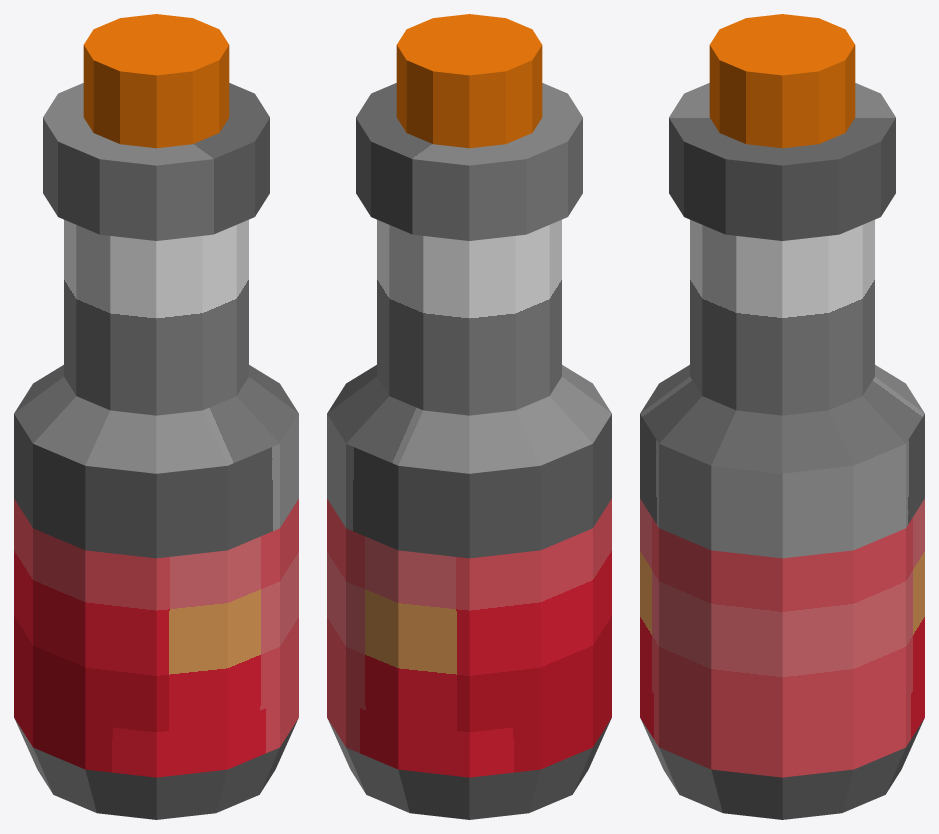
Rendered from bottle_616x10.gltf.
The picture shows the model from 3 angles, left to right: view 1: azimuth 30°, elevation 25°; view 2: azimuth 150°, elevation 25°; view 3: azimuth 270°, elevation 25°; orthographic projection.
Visible parts, largest first — view 1: bottle_616x10; view 2: bottle_616x10; view 3: bottle_616x10.
Part boxes in pixels (x1=…): bottle_616x10: x1=14, y1=14, x2=298, y2=819; bottle_616x10: x1=327, y1=14, x2=611, y2=819; bottle_616x10: x1=640, y1=14, x2=924, y2=819.
Bounding box in the file's own units: 0.372 × 1.04 × 0.372.
1 material, 1 textured.
